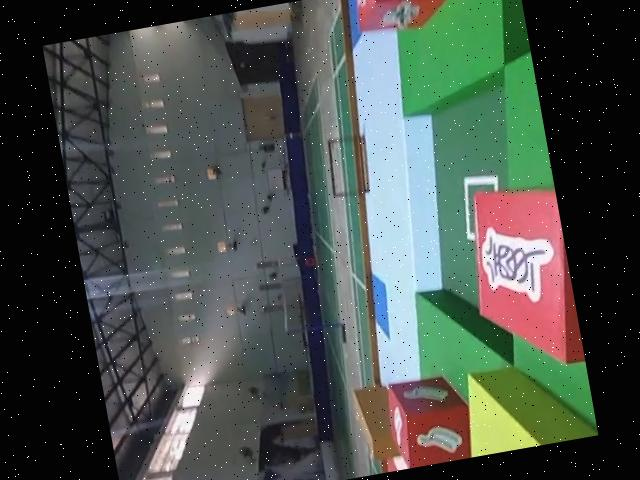R1: (348, 0, 461, 36)
R2 Fake: (459, 178, 585, 378)
R2 Real: (381, 369, 475, 471)
